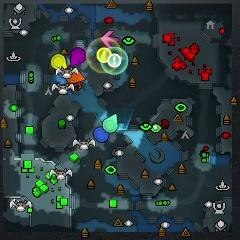Other: (96, 48, 112, 63), (107, 53, 122, 68)
p1: (94, 126, 109, 142)
p2: (103, 114, 118, 133)
p3: (71, 47, 85, 67)
p4: (51, 53, 68, 70)
p5: (66, 69, 86, 84)
x1: (101, 30, 119, 48)
